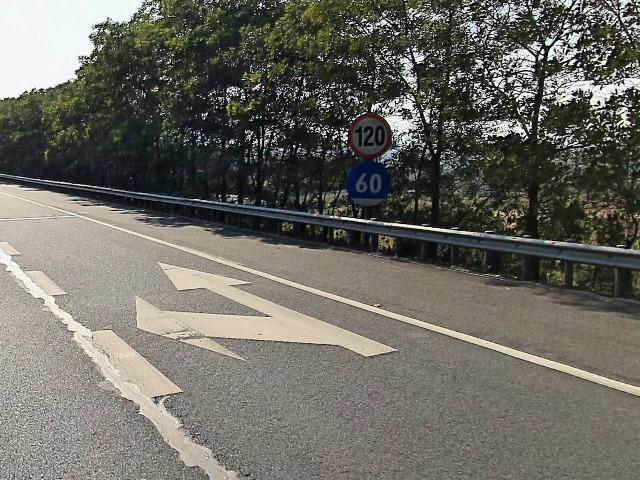limit120: (346, 110, 396, 162)
